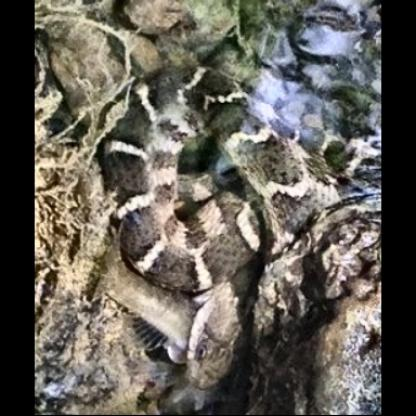Snake: (115, 65, 346, 395)
